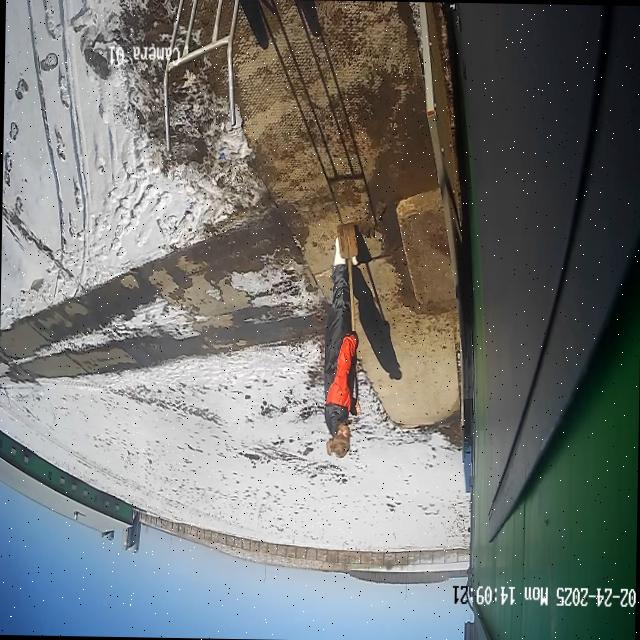Red uniform: (320, 232, 366, 460)
